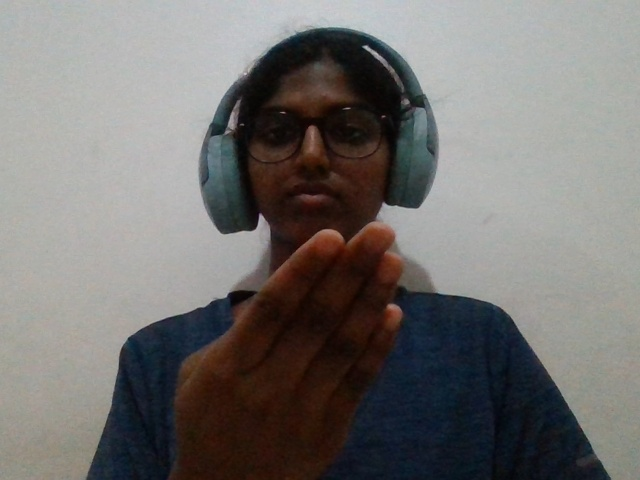Thanks: (145, 175, 445, 463)
